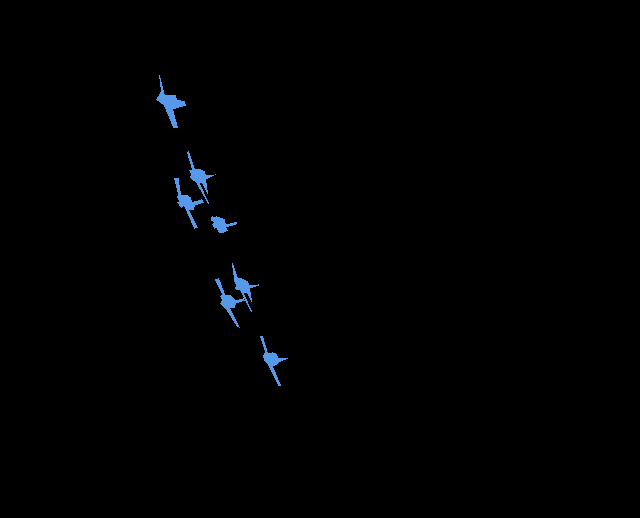Airplane: (187, 151, 216, 203), (156, 75, 185, 127), (174, 178, 204, 228), (215, 278, 244, 327), (260, 336, 287, 385), (232, 263, 259, 311), (211, 216, 237, 232)
